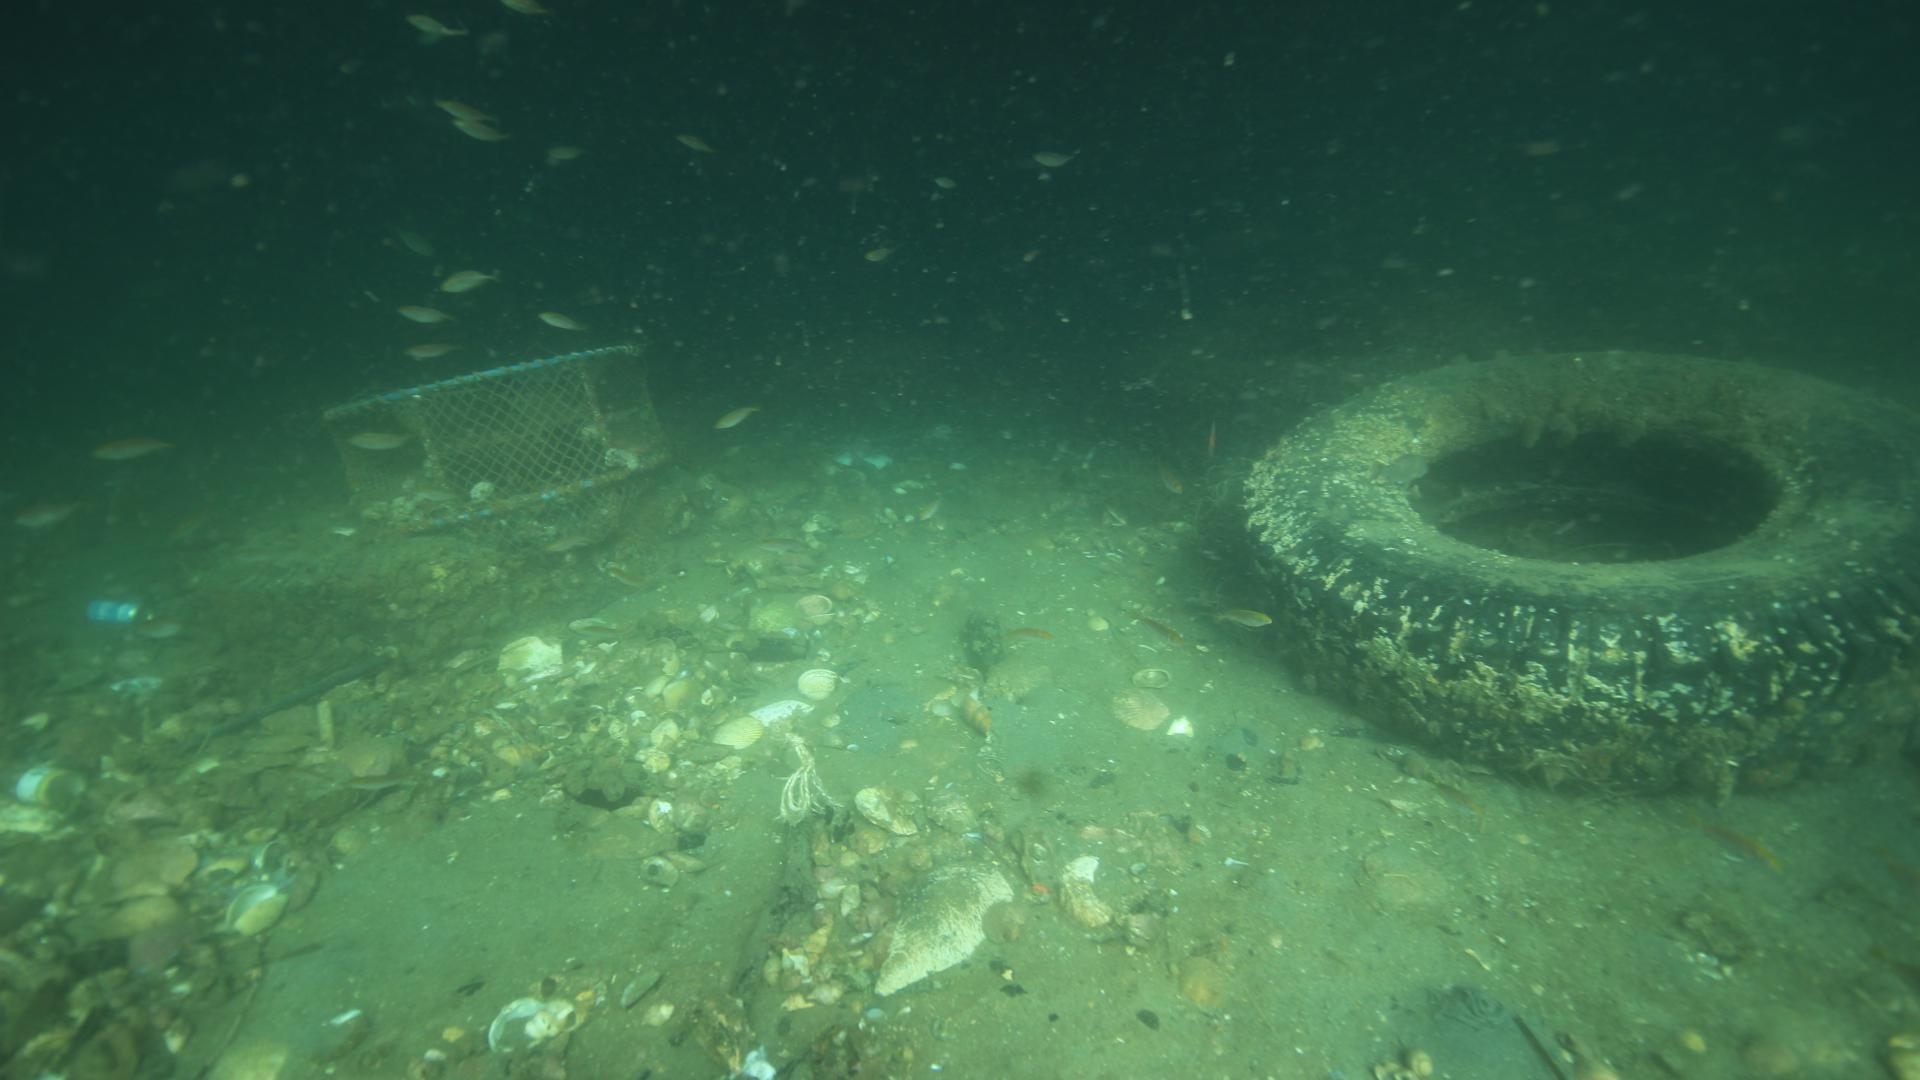circular fish trap: (319, 342, 674, 562)
tire: (1240, 338, 1920, 808)
